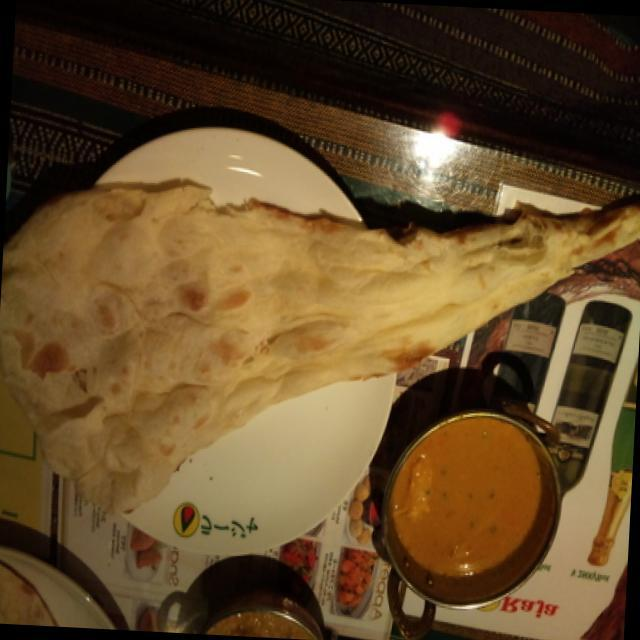Beef Curry: (412, 440, 526, 560)
